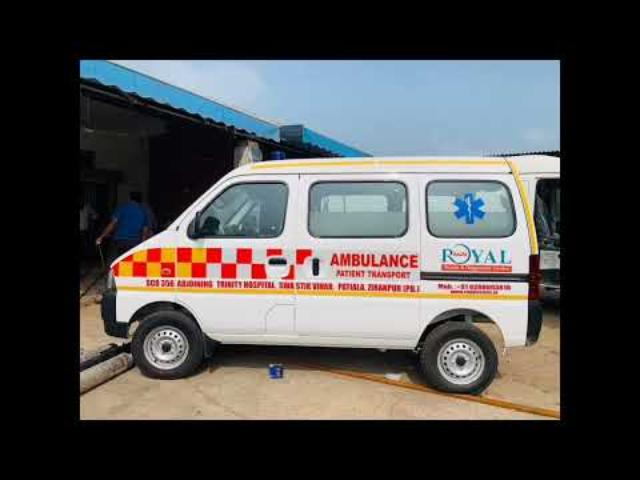ambulance: (101, 151, 550, 398)
